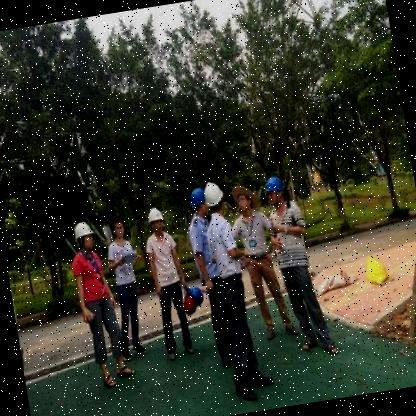capacete: (202, 178, 226, 217), (71, 217, 96, 252), (187, 186, 211, 222), (264, 174, 288, 207), (145, 204, 166, 232)
sem_capacete: (229, 181, 261, 215), (108, 214, 127, 239)
sem_colete_refletivo: (267, 199, 313, 265), (144, 228, 186, 288), (204, 212, 242, 278), (184, 212, 221, 278), (69, 247, 111, 305), (232, 209, 274, 262), (105, 236, 142, 286)
